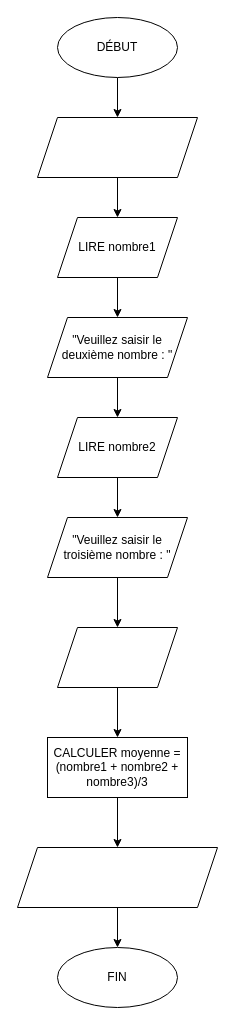
Image size: 235x1025. Some labels were removed from this diagram. Here are the shapes that lost their labels. From the top down, the centre of each, then its label:
point 117,147: "Veuillez saisir le premier nombre : "
point 117,657: LIRE nombre3
point 117,877: AFFICHER "La moyenne des trois nombres est: moyenne
